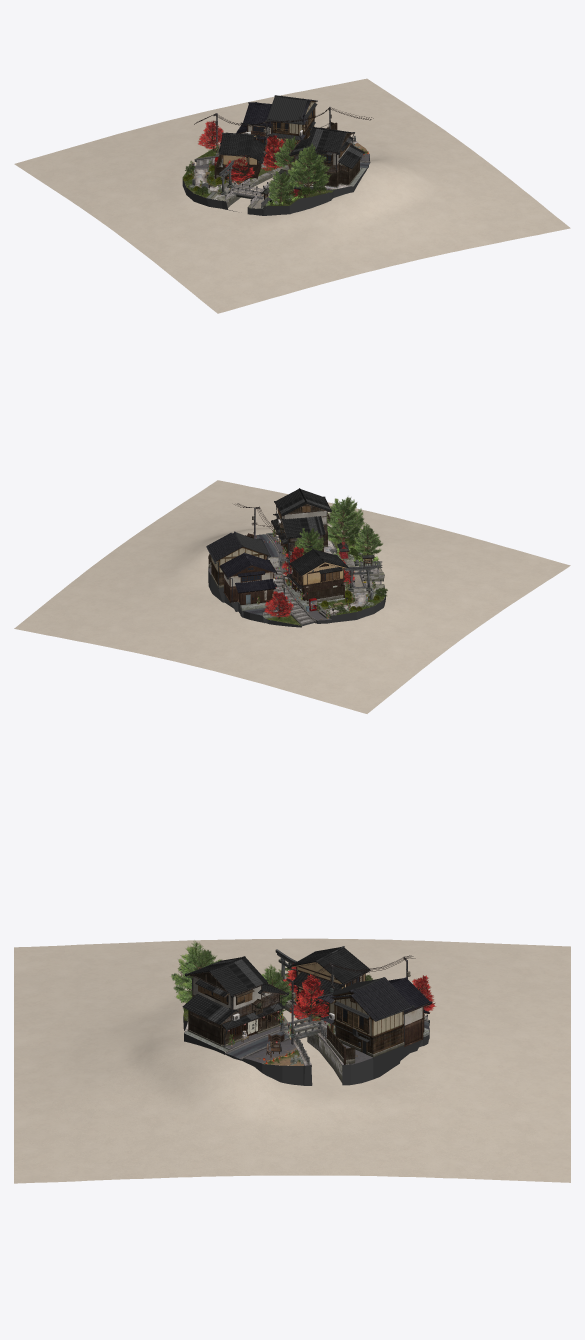
Rendered from kyoto-draco.glb.
3 renders of one model, top to bottom at view 1: azimuth 30°, elevation 25°; view 2: azimuth 150°, elevation 25°; view 3: azimuth 270°, elevation 25°, orthographic. The views are drawn at different scales.
Visible parts, largest first — view 1: Sand, sm_houseBrewery, SM_cakeShop, SM_yakitoriRestaurant, SM_blackBox, tree, SM_house, tree003, SM_Maple01; view 2: Sand, sm_houseBrewery, SM_house, SM_yakitoriRestaurant, SM_cakeShop, tree, SM_blackBox, SM_Stairs, tree003, SM_Maple01, SM_tree; view 3: Sand, sm_houseBrewery, SM_cakeShop, SM_blackBox, SM_yakitoriRestaurant, SM_house, tree, SM_Maple02, sm_houseBrewery_Material #25_0.001.
Part boxes in pixels (<box>): Sand: <box>14,78,570,313</box>; sm_houseBrewery: <box>288,127,364,187</box>; SM_cakeShop: <box>266,95,317,147</box>; SM_yakitoriRestaurant: <box>218,132,265,180</box>; SM_blackBox: <box>182,156,369,215</box>; tree: <box>287,143,331,195</box>; SM_house: <box>236,102,271,150</box>; tree003: <box>268,171,294,202</box>; SM_Maple01: <box>198,120,223,151</box>; Sand: <box>14,480,570,713</box>; sm_houseBrewery: <box>271,488,331,557</box>; SM_house: <box>219,552,277,605</box>; SM_yakitoriRestaurant: <box>287,548,348,600</box>; SM_cakeShop: <box>206,531,270,588</box>; tree: <box>327,497,365,543</box>; SM_blackBox: <box>208,534,385,627</box>; SM_Stairs: <box>273,566,315,625</box>; tree003: <box>354,523,382,554</box>; SM_Maple01: <box>264,591,293,618</box>; SM_tree: <box>294,528,323,554</box>; Sand: <box>14,938,570,1183</box>; sm_houseBrewery: <box>182,956,289,1046</box>; SM_cakeShop: <box>317,977,414,1057</box>; SM_blackBox: <box>183,973,429,1085</box>; SM_yakitoriRestaurant: <box>287,946,370,1017</box>; SM_house: <box>388,976,432,1046</box>; tree: <box>171,940,221,1002</box>; SM_Maple02: <box>289,974,328,1021</box>; sm_houseBrewery_Material #25_0.001: <box>186,971,286,1027</box>.
Bounding box in the file's own units: 32.95 × 22.67 × 32.95.
71 materials, 60 textured.
